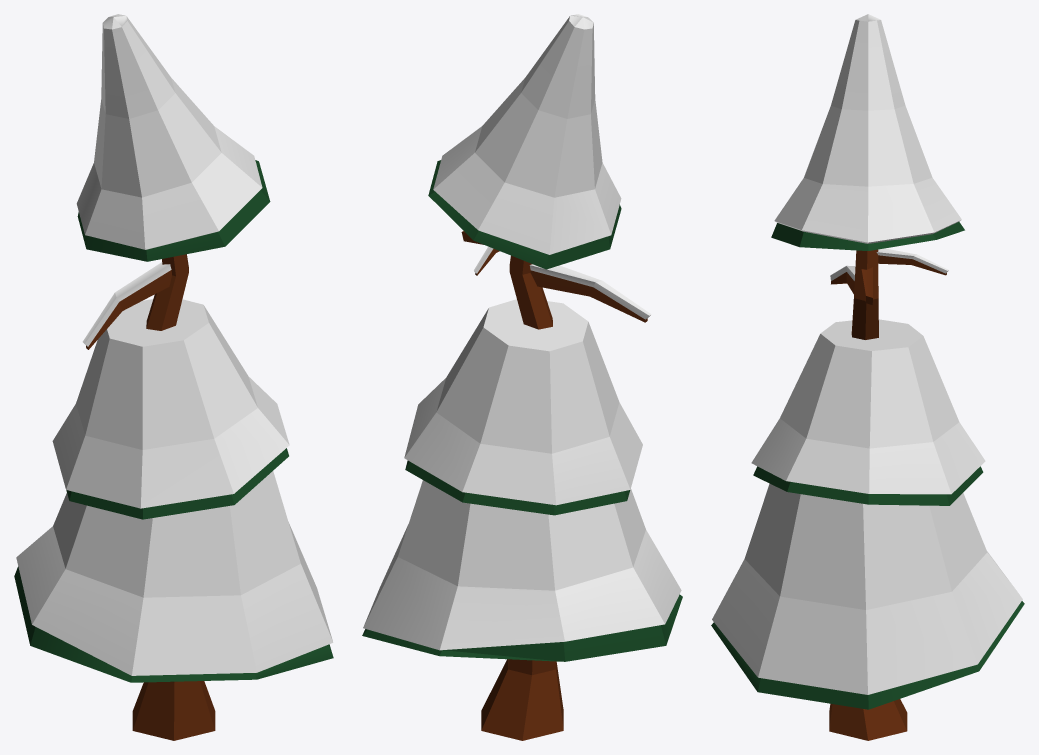
File: Winter_014.fbx
3 views of the same model, side by side, from view 1: azimuth 30°, elevation 25°; view 2: azimuth 150°, elevation 25°; view 3: azimuth 270°, elevation 25° (orthographic). The views are drawn at different scales.
Parts seen in each view (by area): view 1: Winter_014; view 2: Winter_014; view 3: Winter_014.
Part boxes in pixels (box(x1,y1,x2,y2)): Winter_014: box(14, 14, 333, 740); Winter_014: box(362, 14, 682, 740); Winter_014: box(711, 14, 1024, 740).
Size of the model in its own units: 3.34 by 7.98 by 3.34.
